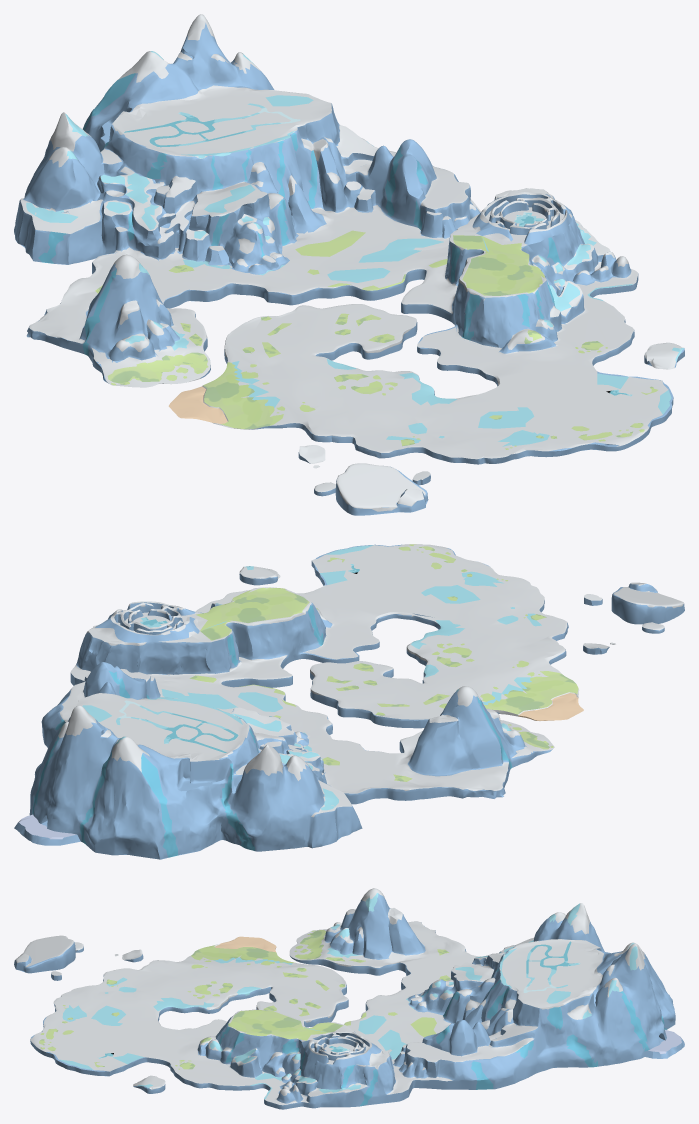
The model's file is TheBerg_V_02.fbx.
The picture shows the model from 3 angles, top to bottom: view 1: azimuth 30°, elevation 25°; view 2: azimuth 150°, elevation 25°; view 3: azimuth 270°, elevation 25°; orthographic projection. The views are drawn at different scales.
Visible parts, largest first — view 1: Berg; view 2: Berg; view 3: Berg.
Boxes of the visible parts, x1=… form: Berg: x1=14, y1=14, x2=684, y2=515; Berg: x1=14, y1=544, x2=684, y2=859; Berg: x1=14, y1=888, x2=684, y2=1109.
Bounding box in the file's own units: 32103 × 7886 × 49432.
